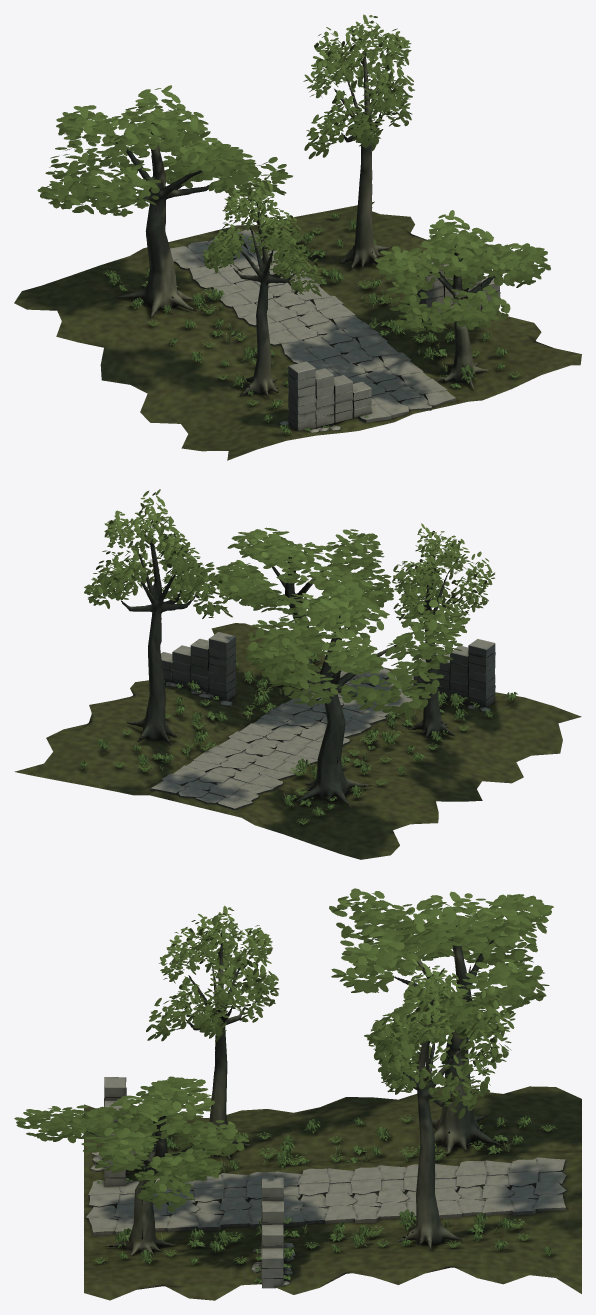
File: forest-patch.glb
3 renders of one model, top to bottom at view 1: azimuth 30°, elevation 25°; view 2: azimuth 150°, elevation 25°; view 3: azimuth 270°, elevation 25°, orthographic. The views are drawn at different scales.
Parts seen in each view (by area): view 1: ForestPatch_Foliage, ForestPatch_Ground, ForestPatch_Stone, ForestPatch_Wood; view 2: ForestPatch_Foliage, ForestPatch_Ground, ForestPatch_Stone, ForestPatch_Wood; view 3: ForestPatch_Foliage, ForestPatch_Ground, ForestPatch_Stone, ForestPatch_Wood.
Boxes of the visible parts, box(x1,y1,x2,y2) form: ForestPatch_Foliage: box(37, 14, 550, 434); ForestPatch_Ground: box(14, 201, 581, 460); ForestPatch_Stone: box(170, 229, 500, 432); ForestPatch_Wood: box(113, 44, 506, 398); ForestPatch_Foliage: box(78, 489, 517, 824); ForestPatch_Ground: box(14, 623, 581, 859); ForestPatch_Stone: box(150, 632, 495, 809); ForestPatch_Wood: box(121, 526, 456, 807); ForestPatch_Foliage: box(14, 888, 556, 1283); ForestPatch_Ground: box(84, 1086, 581, 1300); ForestPatch_Stone: box(85, 1077, 566, 1288); ForestPatch_Wood: box(86, 925, 503, 1255).
Size of what is drawn, in the model's own units: 19.31 by 13.42 by 21.67.
2 materials, 1 textured.
